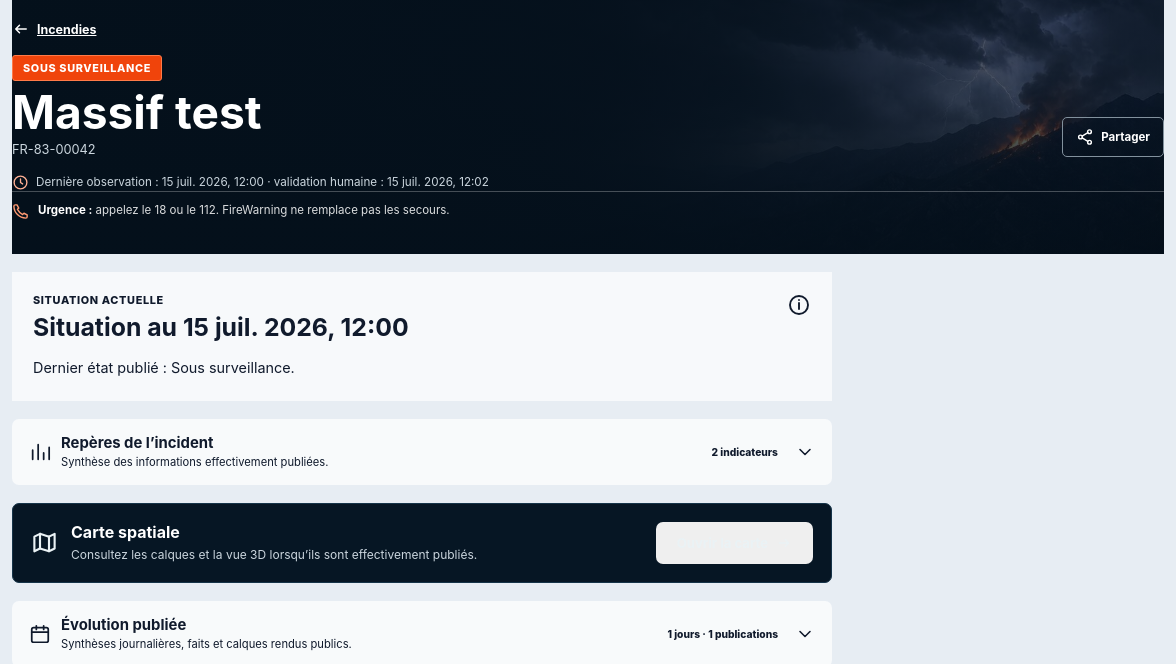
ouvre un bulletin continu sans charger de scène 3D
Expected: the heading "Massif test" is shown, [12,89,262,137]
Expected: the heading "Situation au 15 juil. 2026, 12:00" is shown, [33,312,409,342]
Click the heading "Repères de l’incident" at [137, 443], box [29,434,815,469]
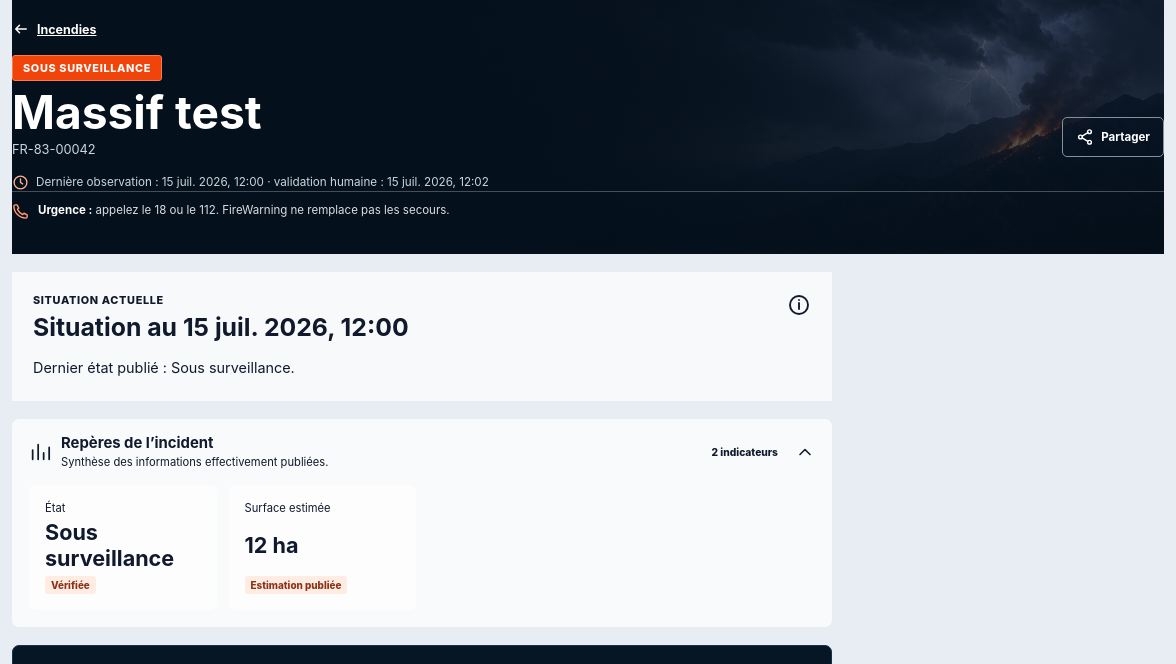
Now the text "Surface estimée" is shown, box [244,501,331,515]
